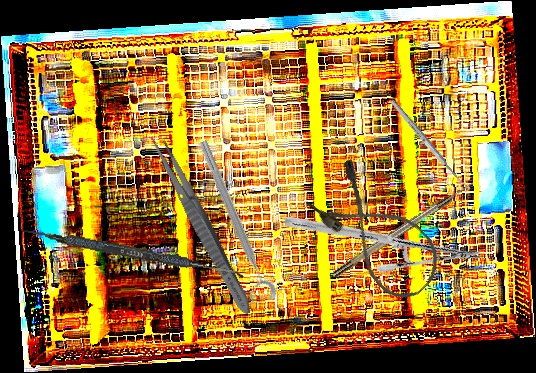Cannula: (301, 155, 453, 310)
Dressing Forceps: (145, 131, 258, 319)
Fixation Ring: (185, 137, 279, 308)
Hook Surgical: (331, 180, 476, 278)
Needle Holder: (283, 161, 482, 316)
Spatula Surgical: (19, 226, 246, 279)
Surgical Spoon: (388, 97, 471, 194)
